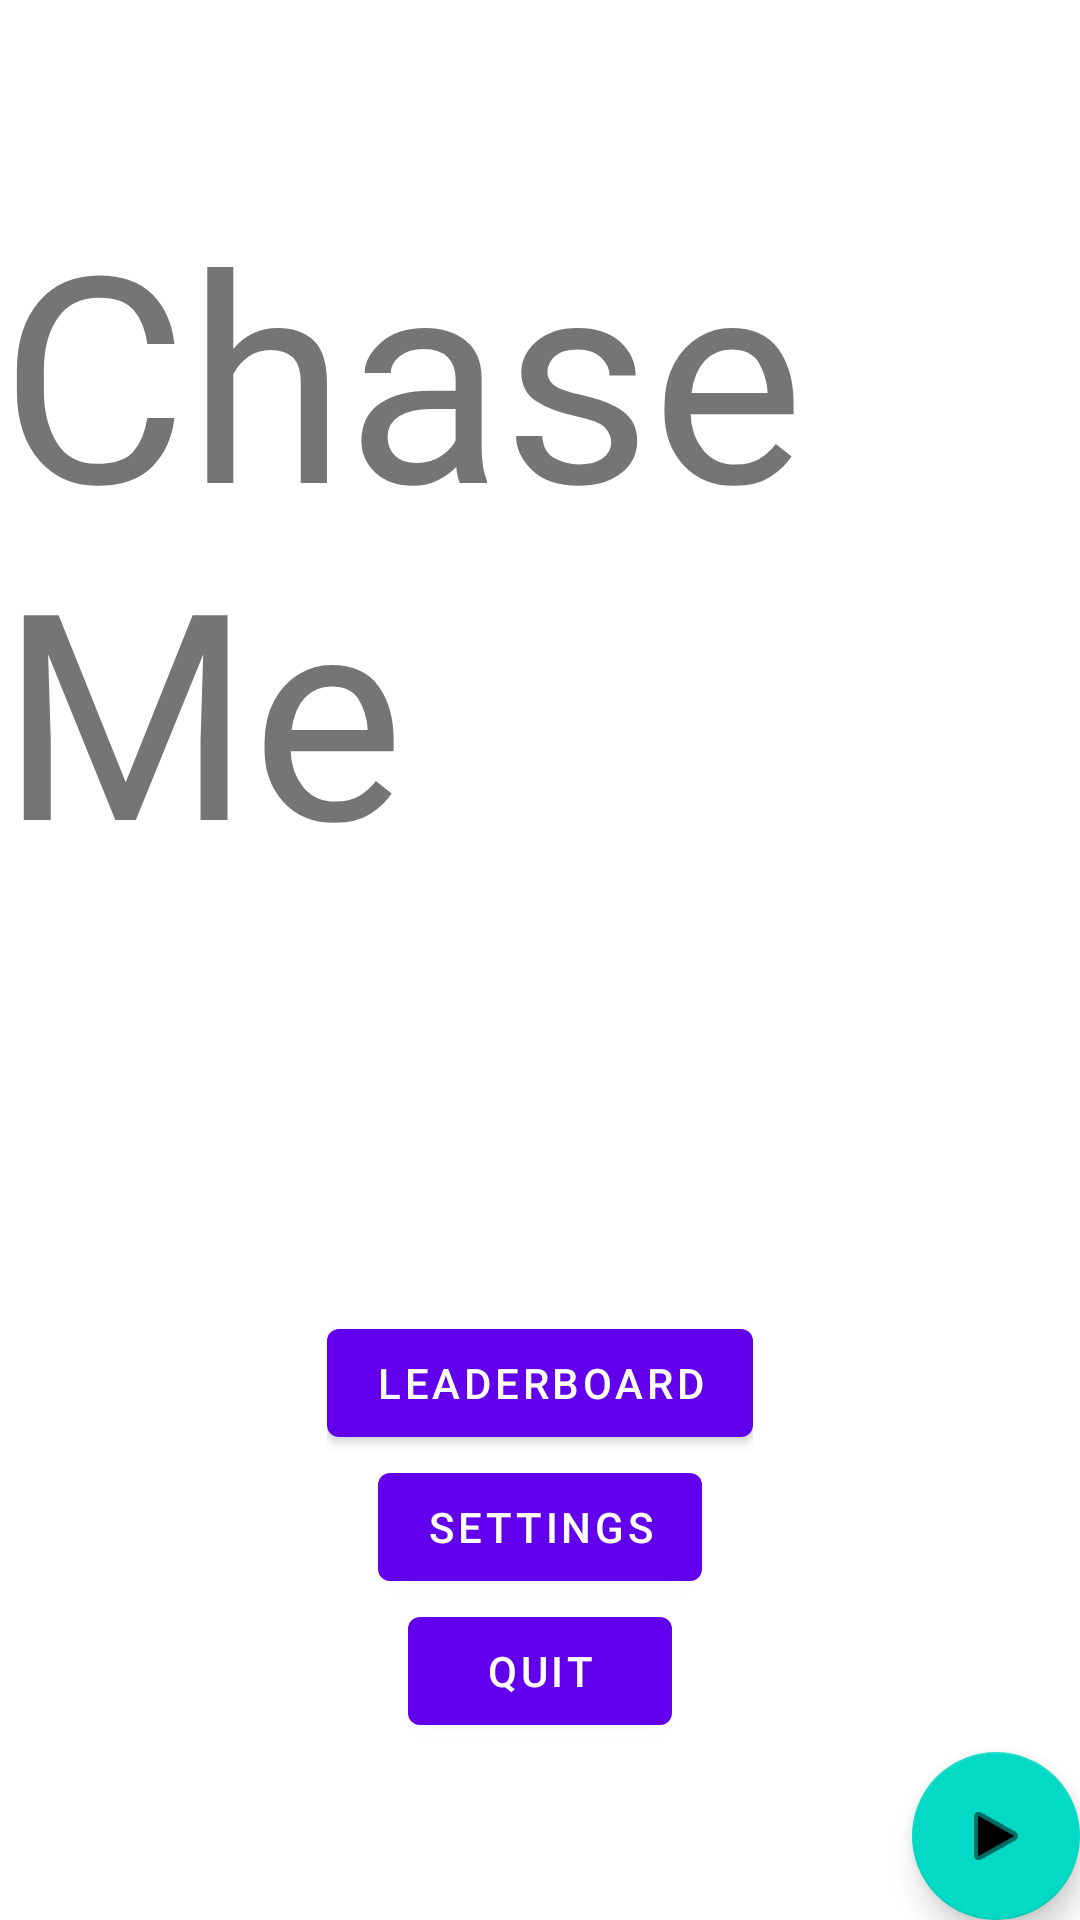

Icon bounding boxes for this 1080×1920 phone screenshot, format (left=x1, top=y1, right=x2, bottom=y2):
play: (left=912, top=1752, right=1080, bottom=1920)
